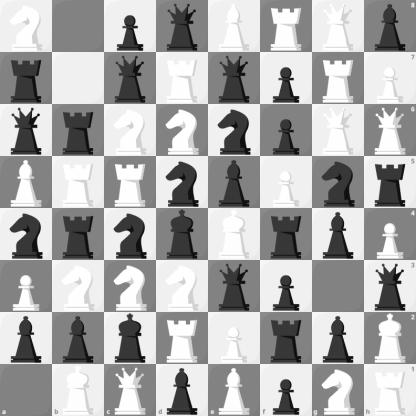B: (209, 364, 260, 416), (1, 157, 52, 208), (209, 1, 260, 52)
K: (52, 364, 104, 416), (364, 312, 416, 364), (209, 209, 260, 260)
N: (312, 364, 364, 416), (1, 1, 52, 52), (53, 261, 104, 312), (105, 105, 156, 156), (105, 261, 156, 312), (157, 105, 208, 156), (157, 261, 208, 312)
P: (364, 52, 416, 104), (364, 209, 416, 260), (1, 261, 52, 312), (209, 313, 260, 364), (261, 157, 312, 208)
Q: (104, 364, 156, 416), (364, 104, 416, 156), (313, 1, 364, 52), (313, 105, 364, 156)
R: (364, 364, 416, 416), (53, 157, 104, 208), (105, 157, 156, 208), (157, 53, 208, 104), (157, 313, 208, 364), (261, 1, 312, 52), (313, 53, 364, 104)
b: (156, 364, 209, 416), (364, 0, 416, 52), (1, 313, 52, 364), (53, 313, 104, 364), (209, 157, 260, 208), (313, 209, 364, 260), (313, 313, 364, 364)
board: (0, 0, 415, 415)
k: (105, 313, 156, 364), (157, 209, 208, 260)
n: (1, 209, 52, 260), (105, 209, 156, 260), (157, 157, 208, 208), (209, 105, 260, 156), (313, 157, 364, 208)
p: (260, 364, 312, 416), (105, 1, 156, 52), (261, 53, 312, 104), (261, 105, 312, 156), (261, 261, 312, 312)
q: (364, 260, 416, 312), (1, 105, 52, 156), (105, 53, 156, 104), (157, 1, 208, 52), (209, 53, 260, 104), (209, 261, 260, 312)
r: (364, 156, 416, 209), (1, 53, 52, 104), (53, 105, 104, 156), (53, 209, 104, 260), (261, 209, 312, 260), (261, 313, 312, 364)
